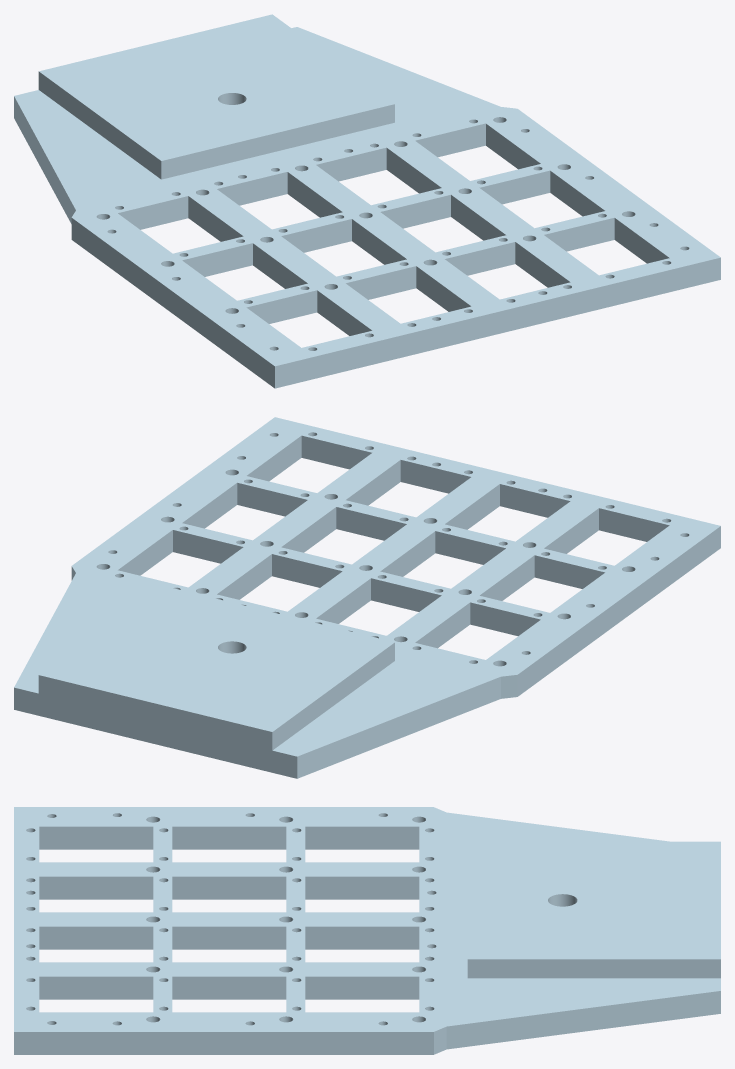
3 renders of one model, top to bottom at view 1: azimuth 30°, elevation 25°; view 2: azimuth 150°, elevation 25°; view 3: azimuth 270°, elevation 25°, orthographic. The views are drawn at different scales.
Visible parts, largest first — view 1: mesh442, mesh443, mesh371, mesh379, mesh444, mesh446, mesh372, mesh345, mesh376, mesh369, mesh341, mesh337 (+19 smaller); view 2: mesh442, mesh443, mesh441, mesh372, mesh379, mesh446, mesh363, mesh359, mesh355, mesh351, mesh347, mesh339 (+18 smaller); view 3: mesh442, mesh443, mesh378, mesh373, mesh445, mesh328, mesh332, mesh336, mesh340, mesh344, mesh348, mesh352 (+5 smaller).
Part boxes in pixels (x1,y1,x2,y2): mesh442: (14, 27, 720, 366); mesh443: (39, 14, 394, 160); mesh371: (275, 257, 720, 388); mesh379: (71, 218, 274, 388); mesh444: (161, 104, 394, 179); mesh446: (38, 71, 161, 178); mesh372: (14, 96, 75, 223); mesh345: (479, 170, 550, 204); mesh376: (246, 290, 317, 323); mesh369: (346, 266, 416, 299); mesh341: (118, 196, 188, 229); mesh337: (217, 172, 287, 205); mesh442: (14, 417, 720, 756); mesh443: (39, 585, 394, 731); mesh441: (14, 675, 297, 778); mesh372: (297, 677, 500, 778); mesh379: (517, 526, 720, 696); mesh446: (272, 642, 394, 750); mesh363: (400, 460, 470, 493); mesh359: (301, 435, 371, 469); mesh355: (534, 555, 604, 588); mesh351: (435, 531, 505, 564); mesh347: (336, 507, 406, 540); mesh339: (470, 602, 540, 635); mesh442: (14, 807, 720, 1031); mesh443: (467, 841, 720, 959); mesh378: (14, 1032, 433, 1054); mesh373: (446, 991, 720, 1049); mesh445: (467, 959, 720, 978); mesh328: (305, 976, 419, 999); mesh332: (305, 926, 419, 949); mesh336: (305, 876, 419, 899); mesh340: (305, 826, 419, 849); mesh344: (172, 976, 286, 999); mesh348: (172, 926, 286, 949); mesh352: (172, 876, 286, 899).
Size of the model in its own units: 0.126 by 0.011 by 0.1675.
